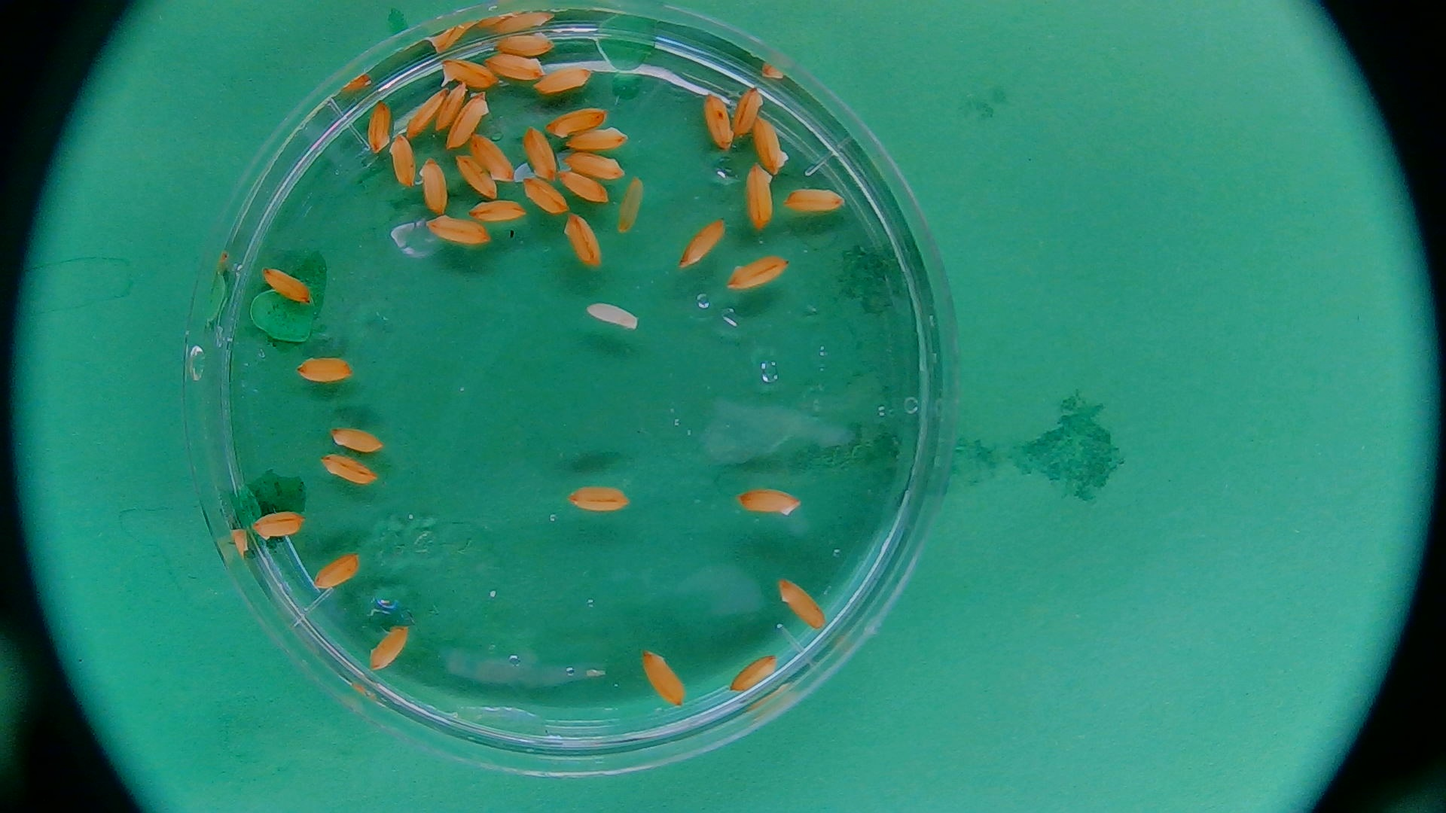no: (559, 479, 637, 524), (636, 644, 688, 711), (258, 258, 319, 314), (516, 172, 577, 223), (786, 175, 853, 221), (773, 577, 829, 631), (720, 251, 795, 291), (728, 75, 770, 142), (313, 547, 368, 598), (319, 446, 380, 491), (423, 214, 496, 251), (292, 351, 361, 390), (677, 216, 727, 269), (371, 615, 410, 680), (559, 213, 604, 269), (416, 156, 458, 216), (699, 89, 737, 155), (563, 146, 629, 184), (446, 91, 489, 149), (253, 503, 308, 547), (749, 115, 790, 174), (489, 46, 547, 87), (742, 163, 778, 229), (734, 489, 800, 522), (325, 424, 391, 457), (544, 108, 614, 139), (724, 656, 775, 698), (490, 28, 556, 60), (572, 123, 632, 157), (365, 96, 398, 155), (469, 196, 529, 227), (432, 82, 466, 133), (531, 65, 591, 93), (386, 136, 419, 186), (409, 90, 437, 139)
yes: (436, 50, 502, 98)
